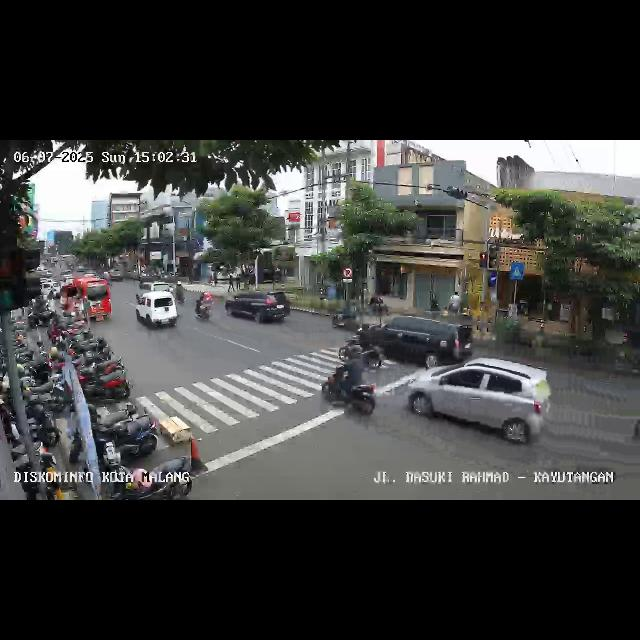car: (402, 358, 550, 450), (356, 315, 474, 371), (60, 278, 112, 324), (224, 290, 290, 326), (134, 290, 178, 330)
motorcycle: (320, 344, 380, 421), (340, 324, 384, 374), (332, 301, 358, 331), (194, 290, 214, 322), (174, 280, 186, 304)
